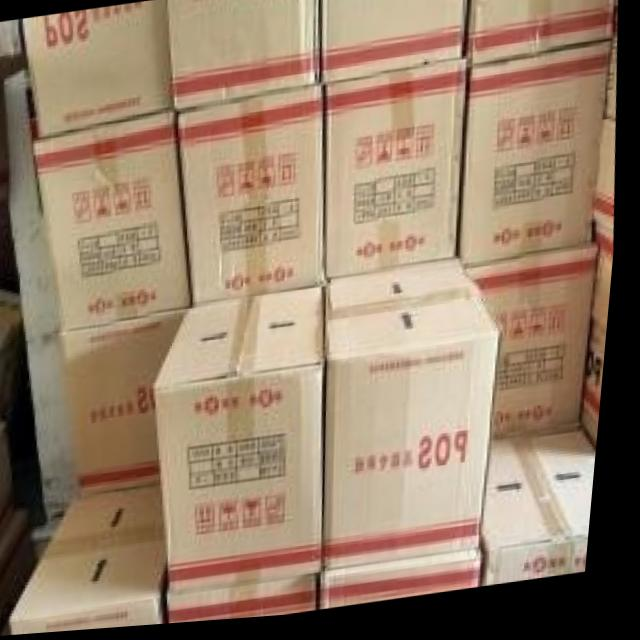box: (156, 288, 336, 597), (332, 263, 507, 577), (34, 112, 196, 334), (323, 60, 470, 288), (465, 47, 612, 274), (178, 93, 332, 309), (465, 251, 599, 449), (18, 486, 180, 636), (64, 309, 191, 493), (21, 3, 176, 138), (165, 0, 323, 117), (494, 435, 605, 594), (321, 0, 469, 93), (465, 0, 618, 74), (329, 560, 494, 615), (176, 577, 334, 627), (588, 254, 618, 459), (0, 510, 45, 637), (0, 288, 32, 414), (0, 425, 25, 555), (599, 126, 618, 269), (0, 22, 27, 79), (0, 81, 10, 199), (607, 47, 618, 130)
